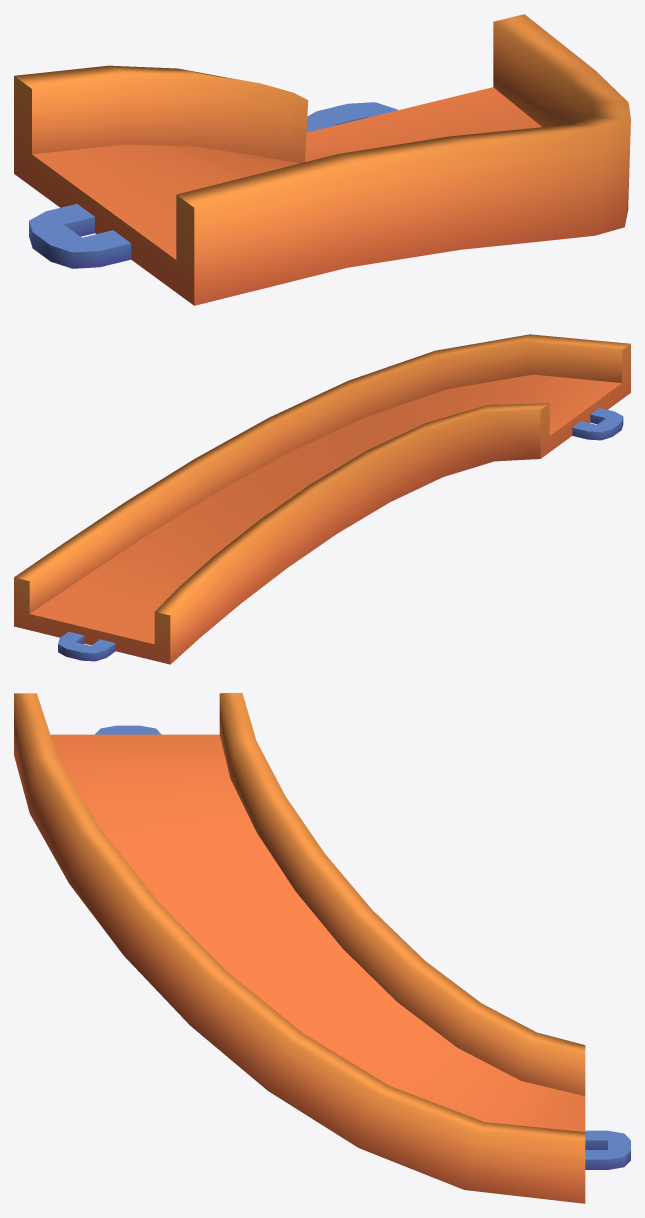
File: kenney-toy-car-track-narrow-corner-small-ramp.glb
3 views of the same model, one above another, from view 1: azimuth 30°, elevation 25°; view 2: azimuth 150°, elevation 25°; view 3: azimuth 270°, elevation 25° (orthographic). The views are drawn at different scales.
Visible parts, largest first — view 1: track-narrow-corner-small-ramp; view 2: track-narrow-corner-small-ramp; view 3: track-narrow-corner-small-ramp.
Part boxes in pixels (bbox=[...]): track-narrow-corner-small-ramp: bbox=[14, 14, 630, 305]; track-narrow-corner-small-ramp: bbox=[14, 334, 630, 664]; track-narrow-corner-small-ramp: bbox=[14, 693, 630, 1203].
Bounding box in the file's own units: 2.7 × 1.3 × 2.7.
1 material, 1 textured.
